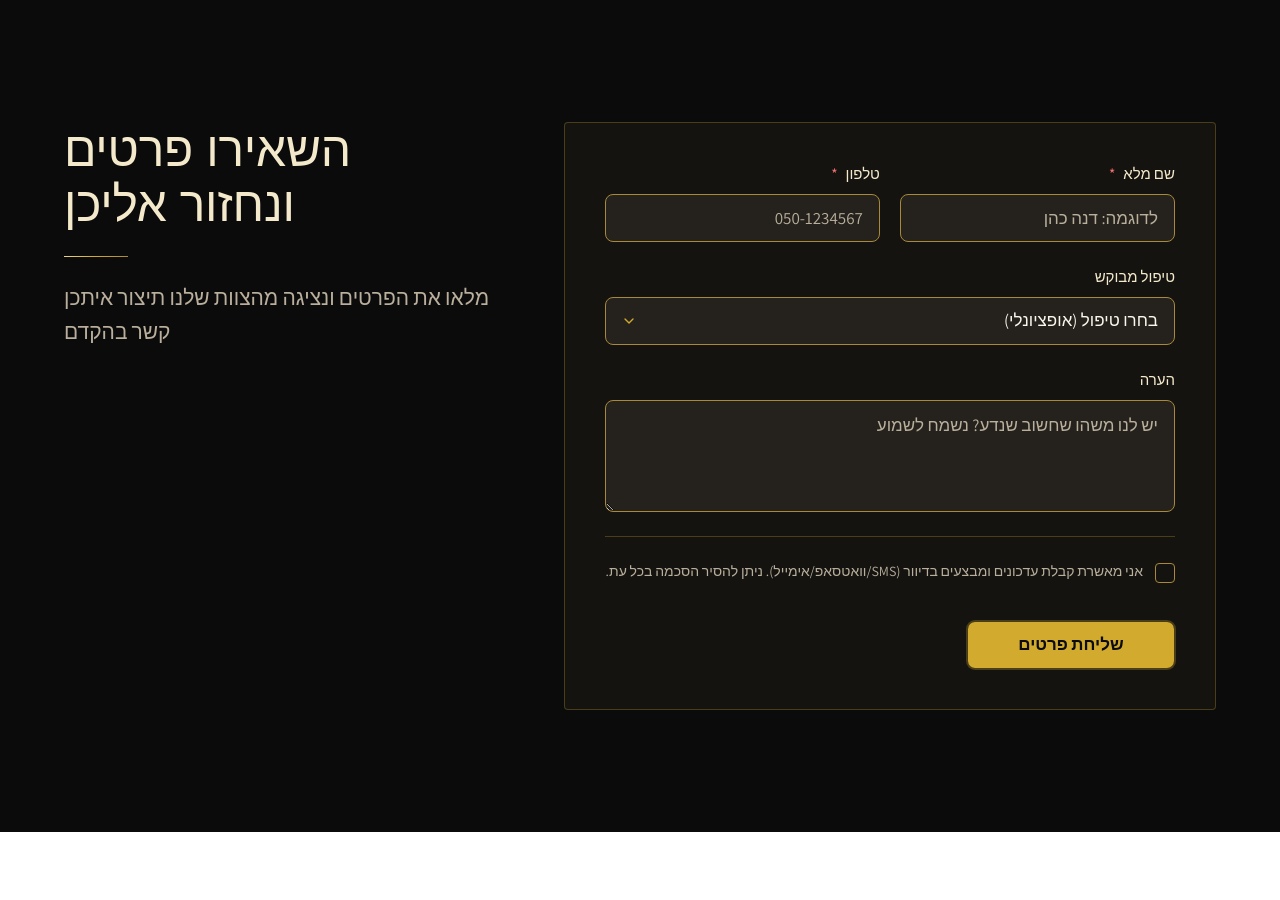
Test: ContactFormSection › כאשר השרת מחזיר שגיאה, מוצגת הודעת שגיאה בעברית ולא הודעת הצלחה
In the field labelled "שם מלא *": (1037, 218) left=900, top=194, right=1175, bottom=242, type "דנה כהן"
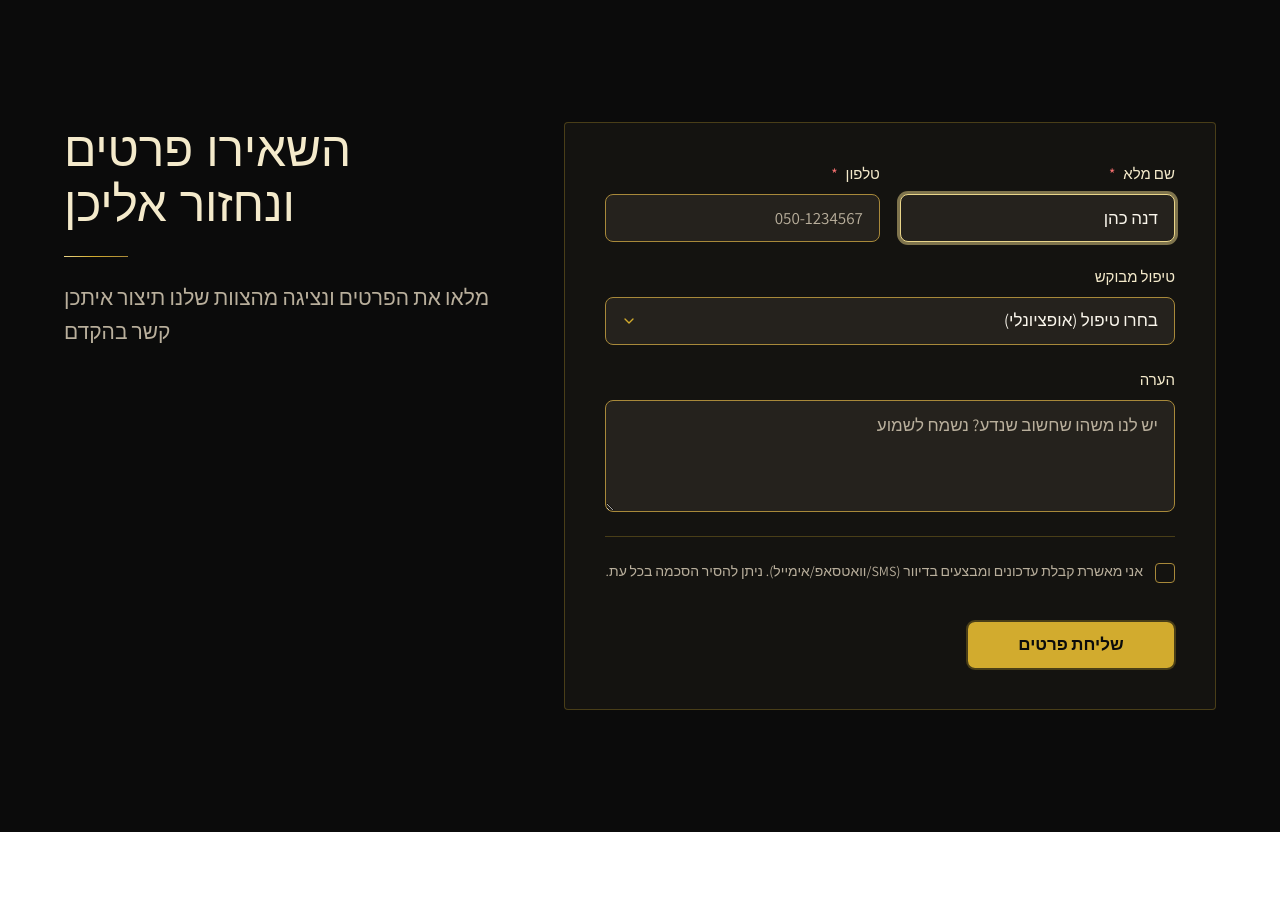
In the field labelled "טלפון *": (742, 218) left=605, top=194, right=880, bottom=242, type "0501234567"
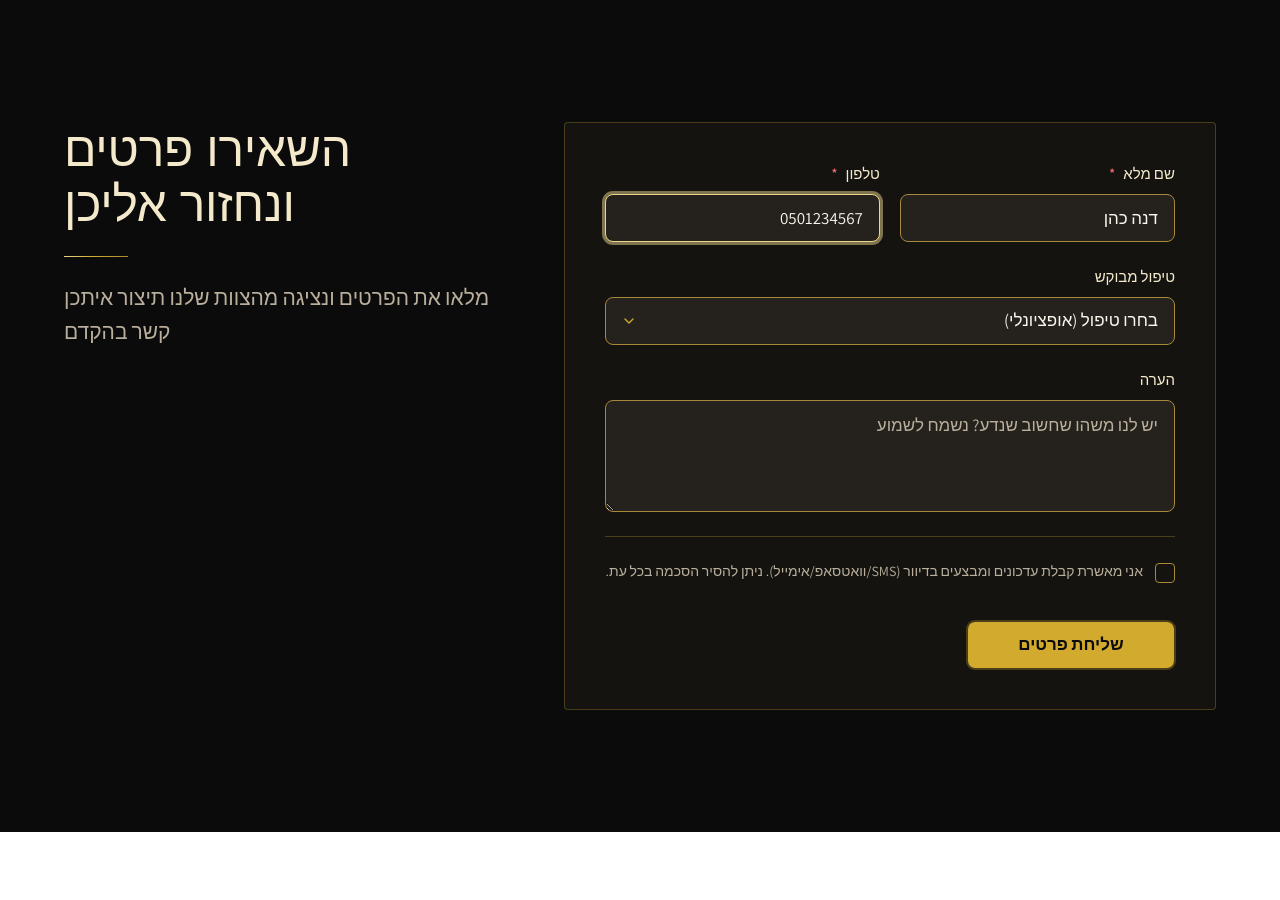
Click the button "שליחת פרטים": (1071, 645) left=967, top=621, right=1175, bottom=669
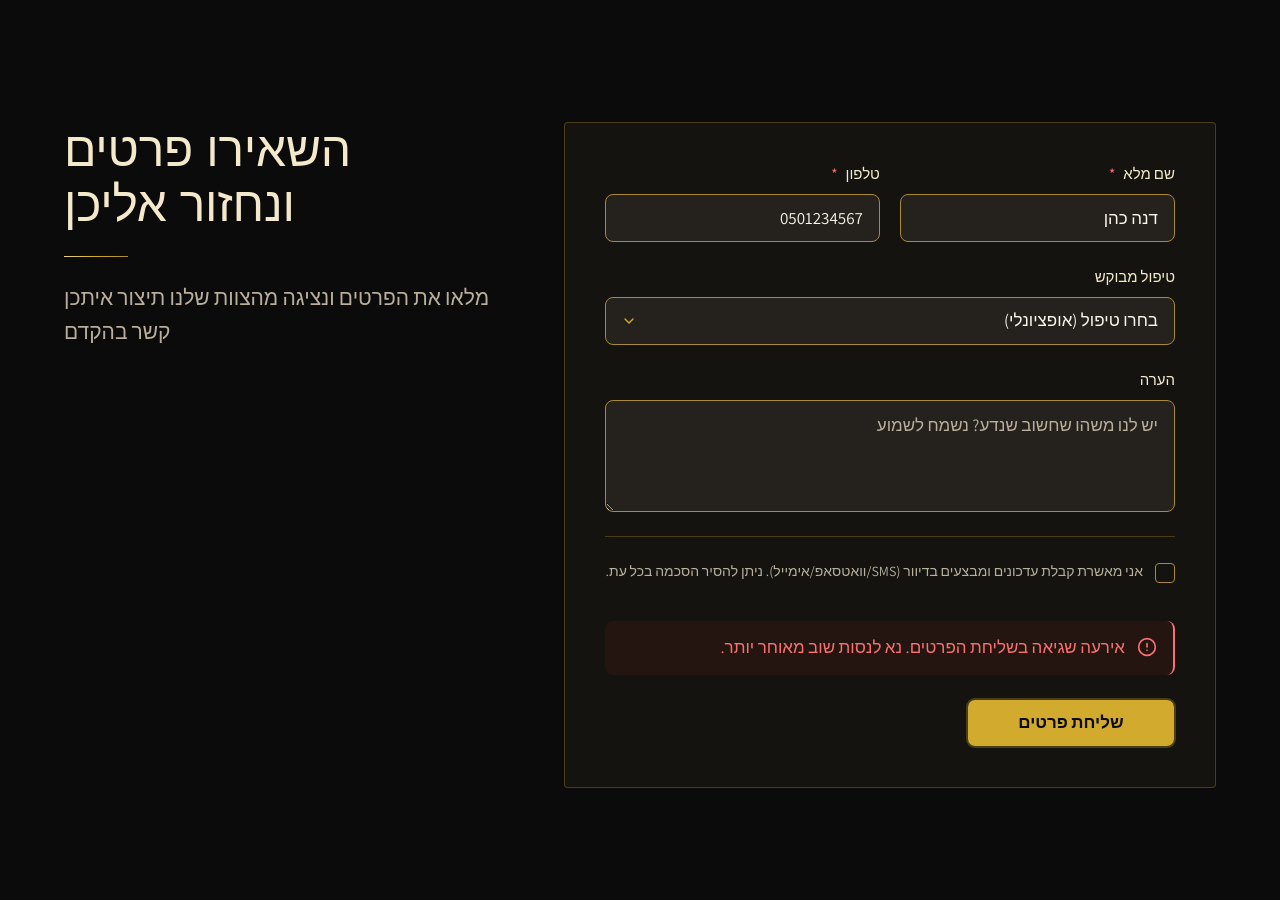
Now the message shows "אירעה שגיאה בשליחת הפרטים", box left=720, top=636, right=1125, bottom=658
